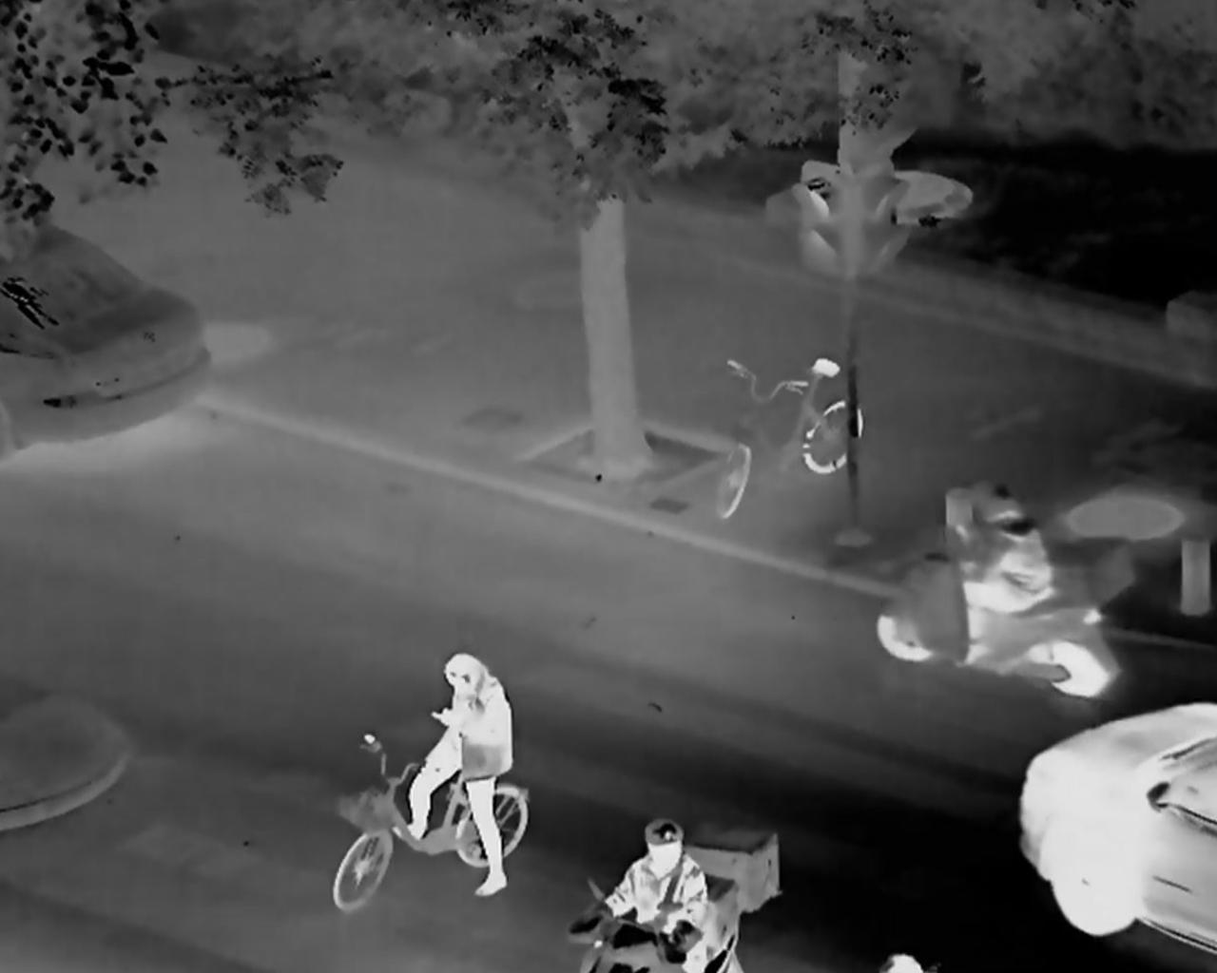person: (394, 654, 513, 896), (943, 476, 1053, 670), (594, 817, 709, 973)
